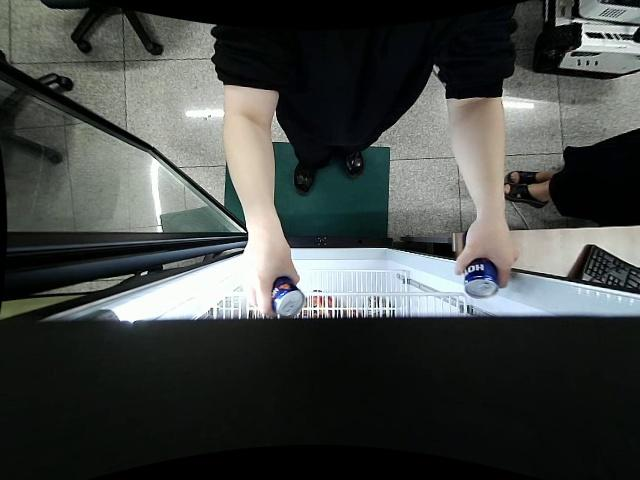00_hand: (455, 216, 519, 289), (240, 240, 299, 315)
16_hot6: (463, 257, 501, 299), (271, 275, 306, 317)
